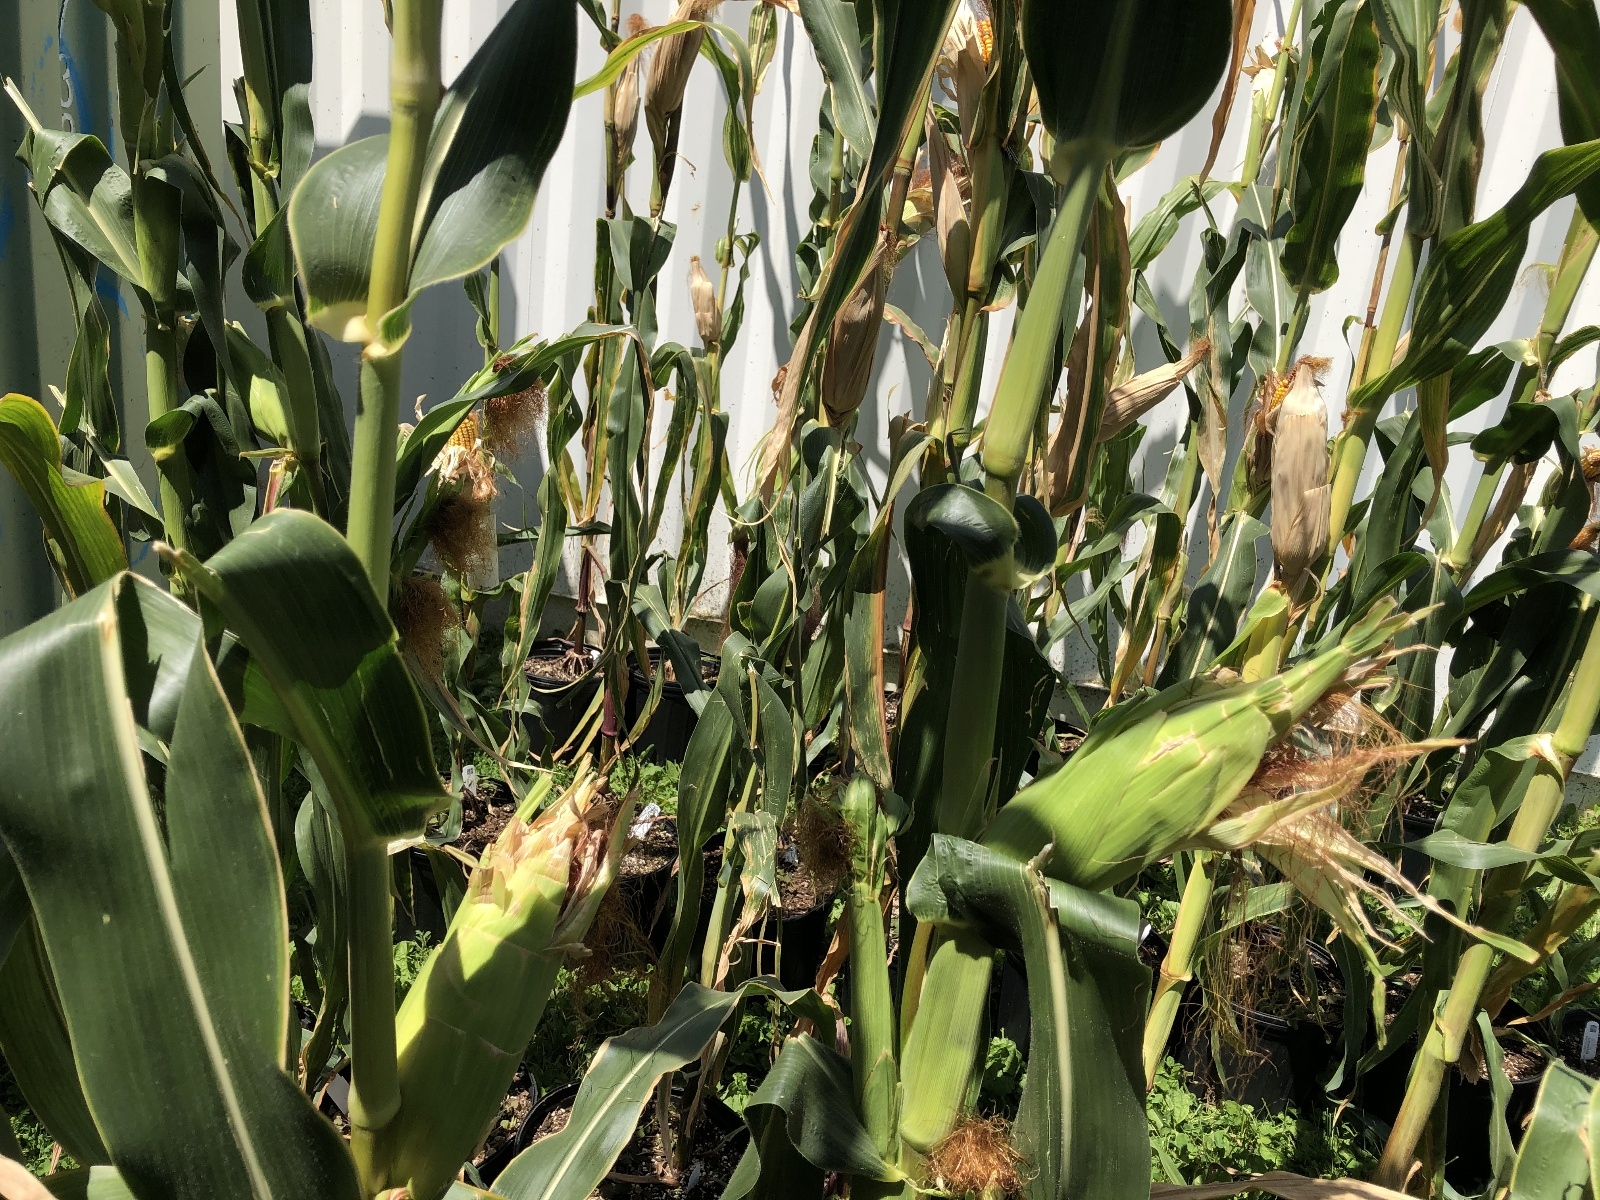ear: (372, 751, 617, 1176), (968, 644, 1358, 897), (819, 229, 900, 413), (1083, 334, 1214, 442), (1272, 355, 1327, 571), (1233, 362, 1294, 504), (648, 4, 706, 113), (964, 10, 1002, 136), (682, 250, 729, 342), (610, 15, 636, 160), (435, 408, 483, 471)
